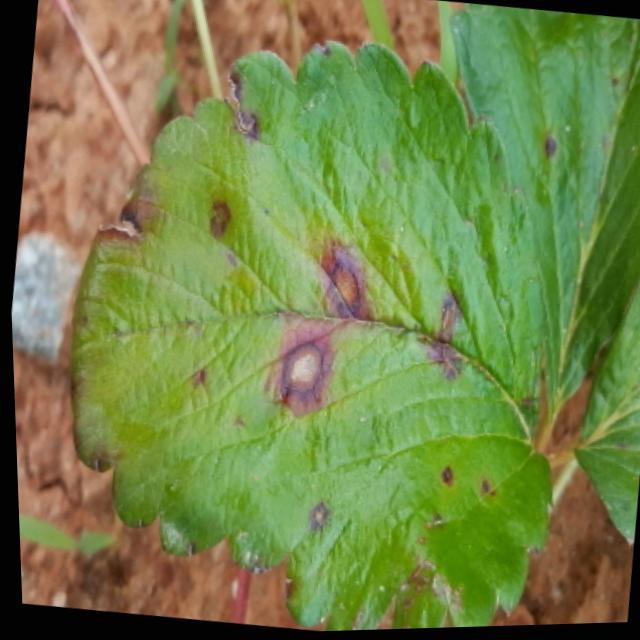Leaf Spot: (66, 41, 551, 633), (447, 4, 640, 425)
